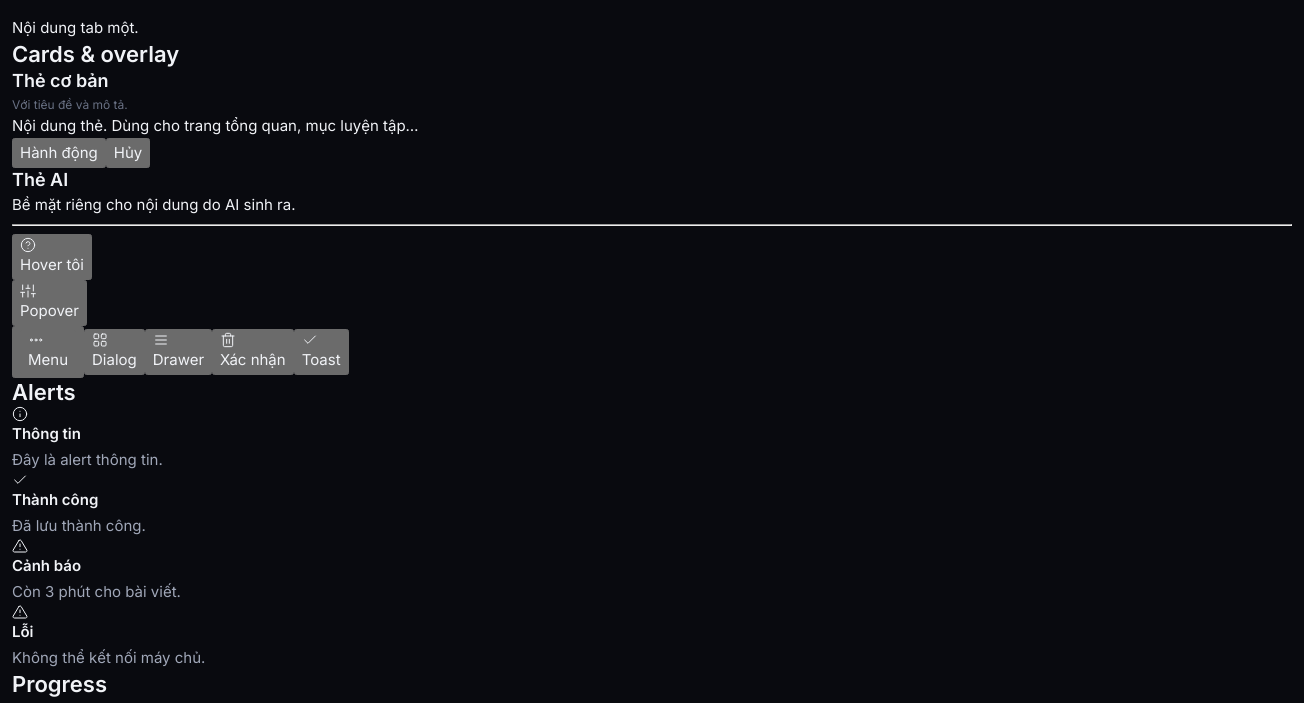
Test: DesignSystemPage › shows toasts from the demo button
(page scrolled)
Click the button "Toast" at (321, 352), box [294,329,349,375]
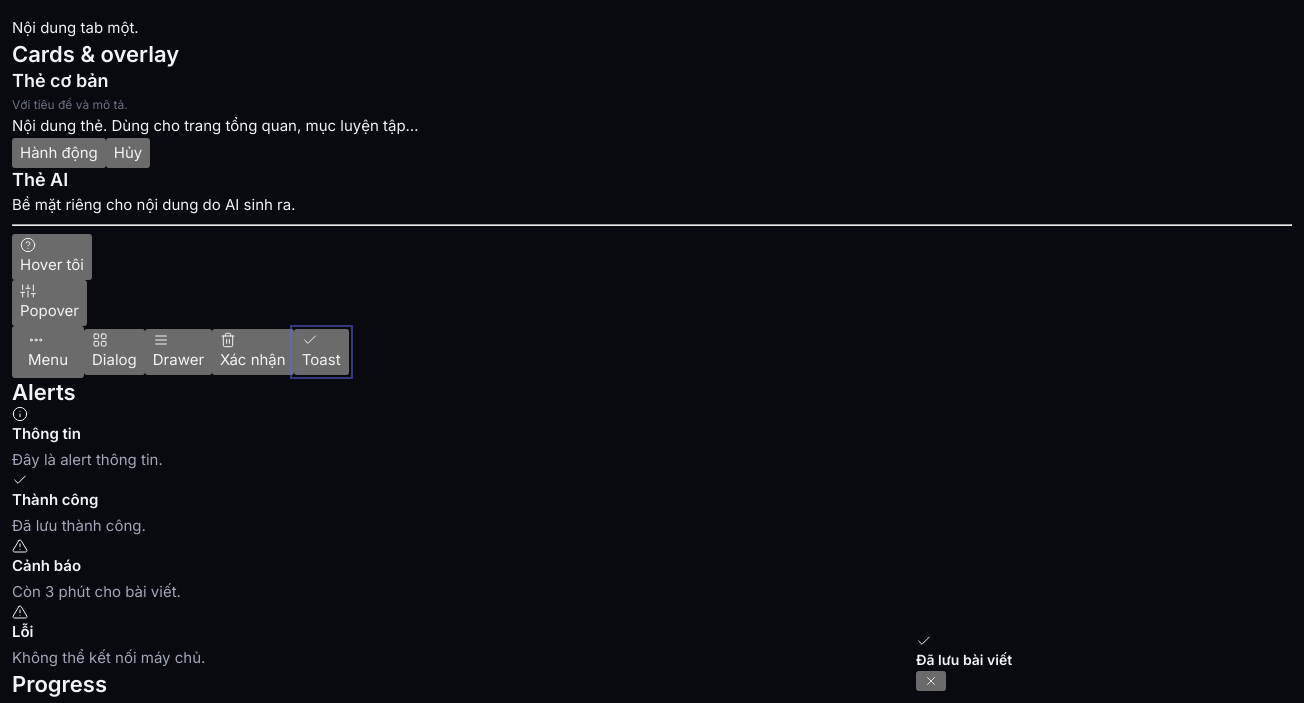
Check: the text "Đã lưu bài viết" is shown, box [916,651,1012,668]
